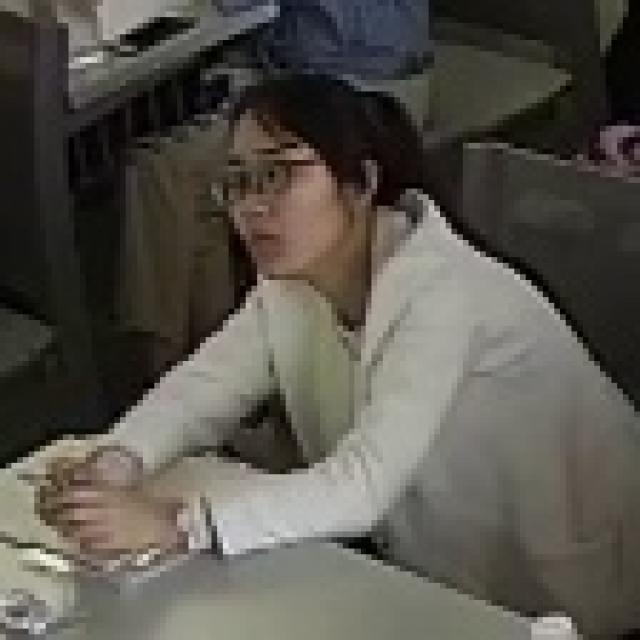listen: (36, 69, 499, 552)
